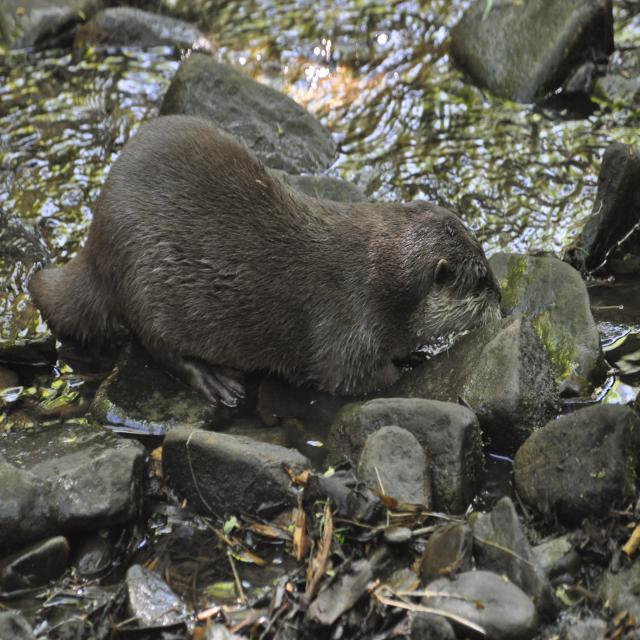otter: (34, 119, 501, 412)
